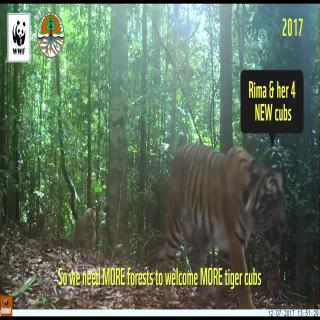Tiger: (147, 123, 290, 263)
